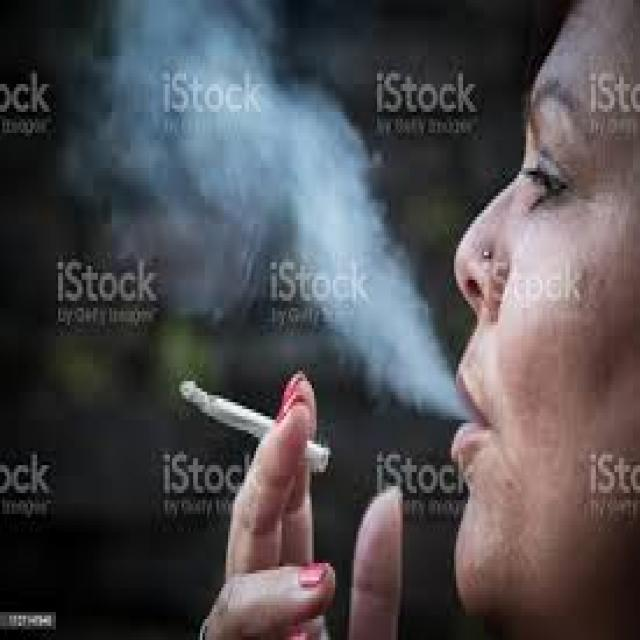rokok: (172, 373, 336, 473)
